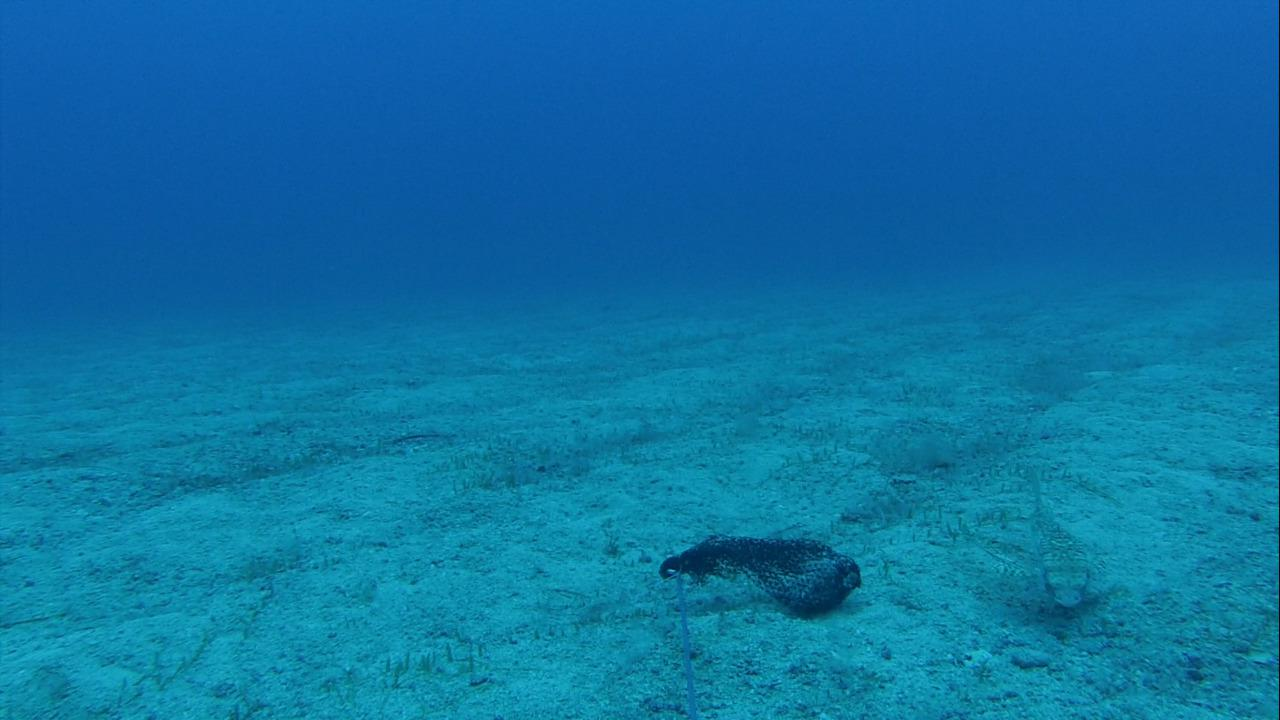dactylopterus: (947, 467, 1114, 633)
